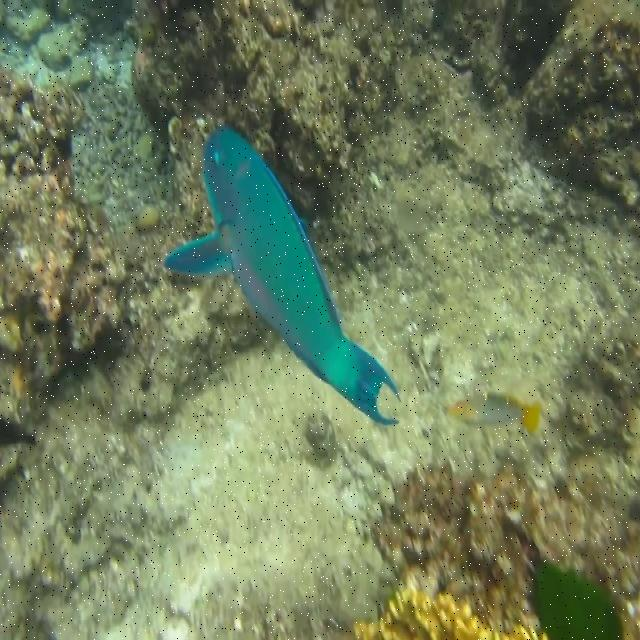fish: (164, 126, 400, 426), (450, 391, 542, 436)
